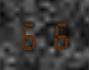six: (19, 20, 43, 50), (44, 20, 68, 50)
